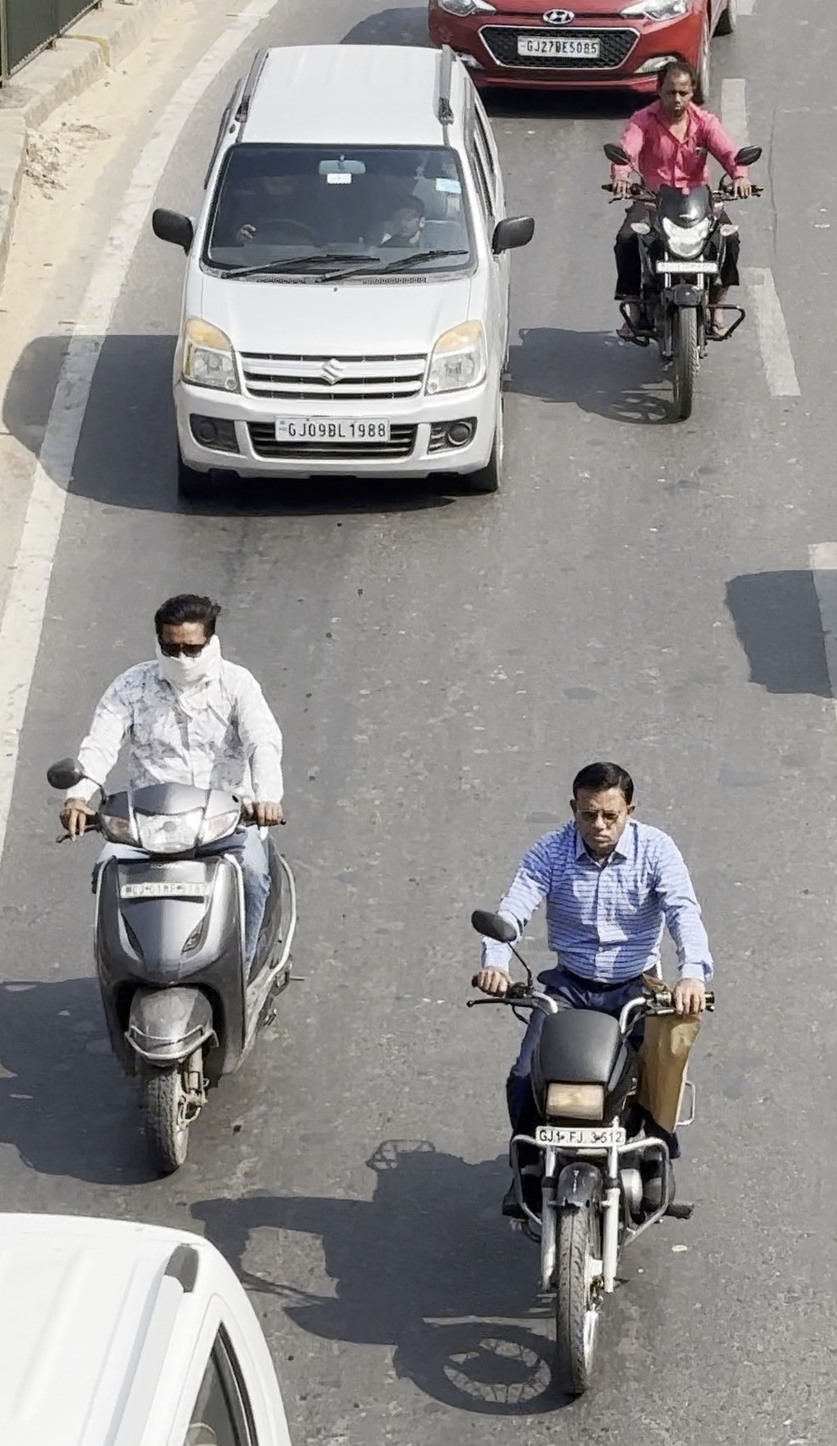BikeWithRider: (456, 750, 728, 1408), (36, 585, 310, 1185), (590, 47, 772, 431)
NoHelmet: (138, 587, 235, 692), (555, 752, 648, 860), (643, 49, 712, 124)
